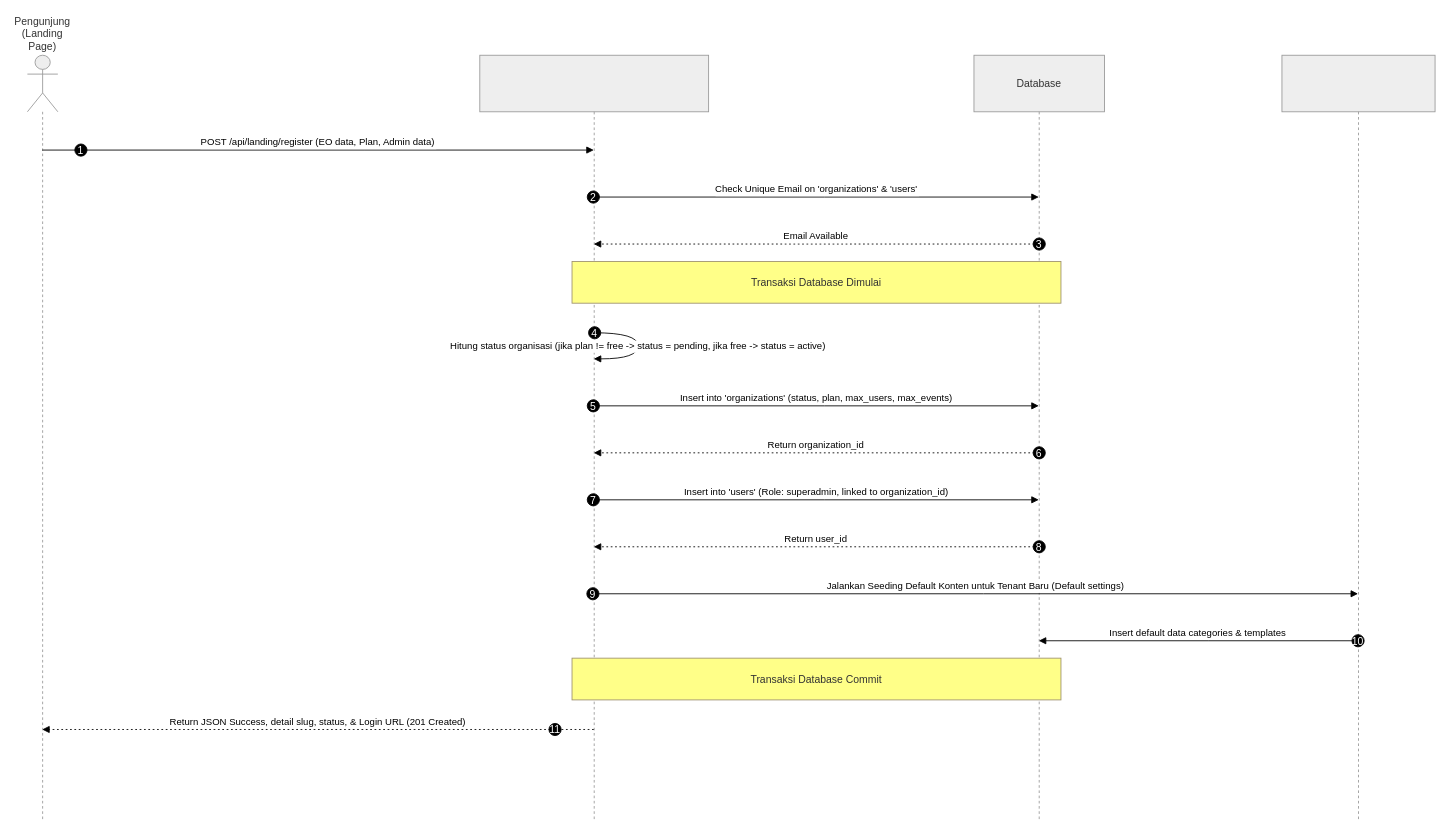
Image size: 1450x836. Some labels were removed from this diagram. Each missing label, with the box of its shape:
Default Seeder Engine: (1281, 54, 1435, 821)
PublicLandingController (Backend): (479, 54, 709, 821)
